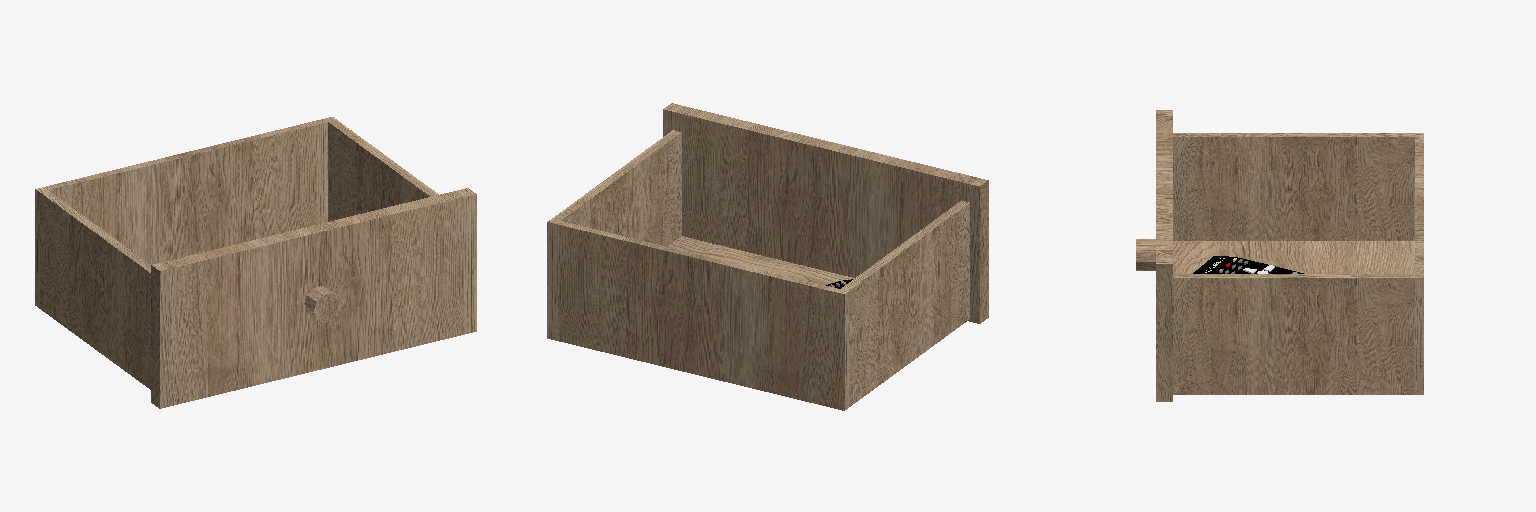
The picture shows the model from 3 angles: view 1: azimuth 30°, elevation 25°; view 2: azimuth 150°, elevation 25°; view 3: azimuth 270°, elevation 25°; orthographic projection.
Visible parts, largest first — view 1: smarttv:pCube23; view 2: smarttv:pCube23; view 3: smarttv:pCube23.
Part boxes in pixels (left/top/right/bottom): smarttv:pCube23: left=35, top=117, right=476, bottom=408; smarttv:pCube23: left=547, top=103, right=988, bottom=410; smarttv:pCube23: left=1136, top=110, right=1423, bottom=401.
Size of the model in its own units: 1.12 by 0.467 by 0.8858.
2 materials, 2 textured.